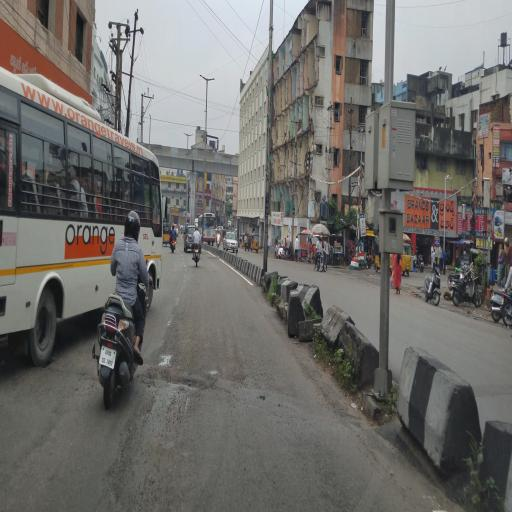street_light_0: (207, 70, 219, 90), (196, 68, 208, 88)
